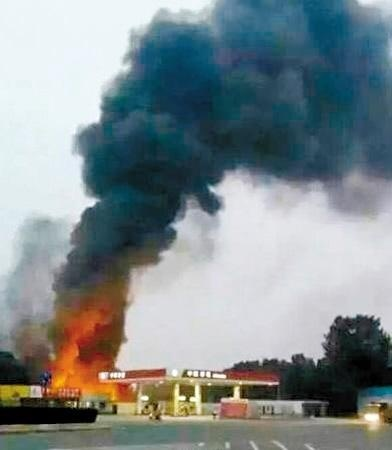fire: (44, 306, 130, 398)
